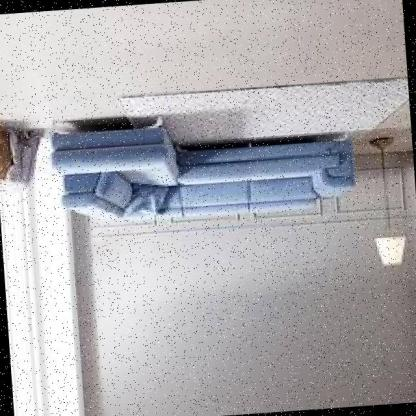Sofa: (37, 80, 376, 242)
